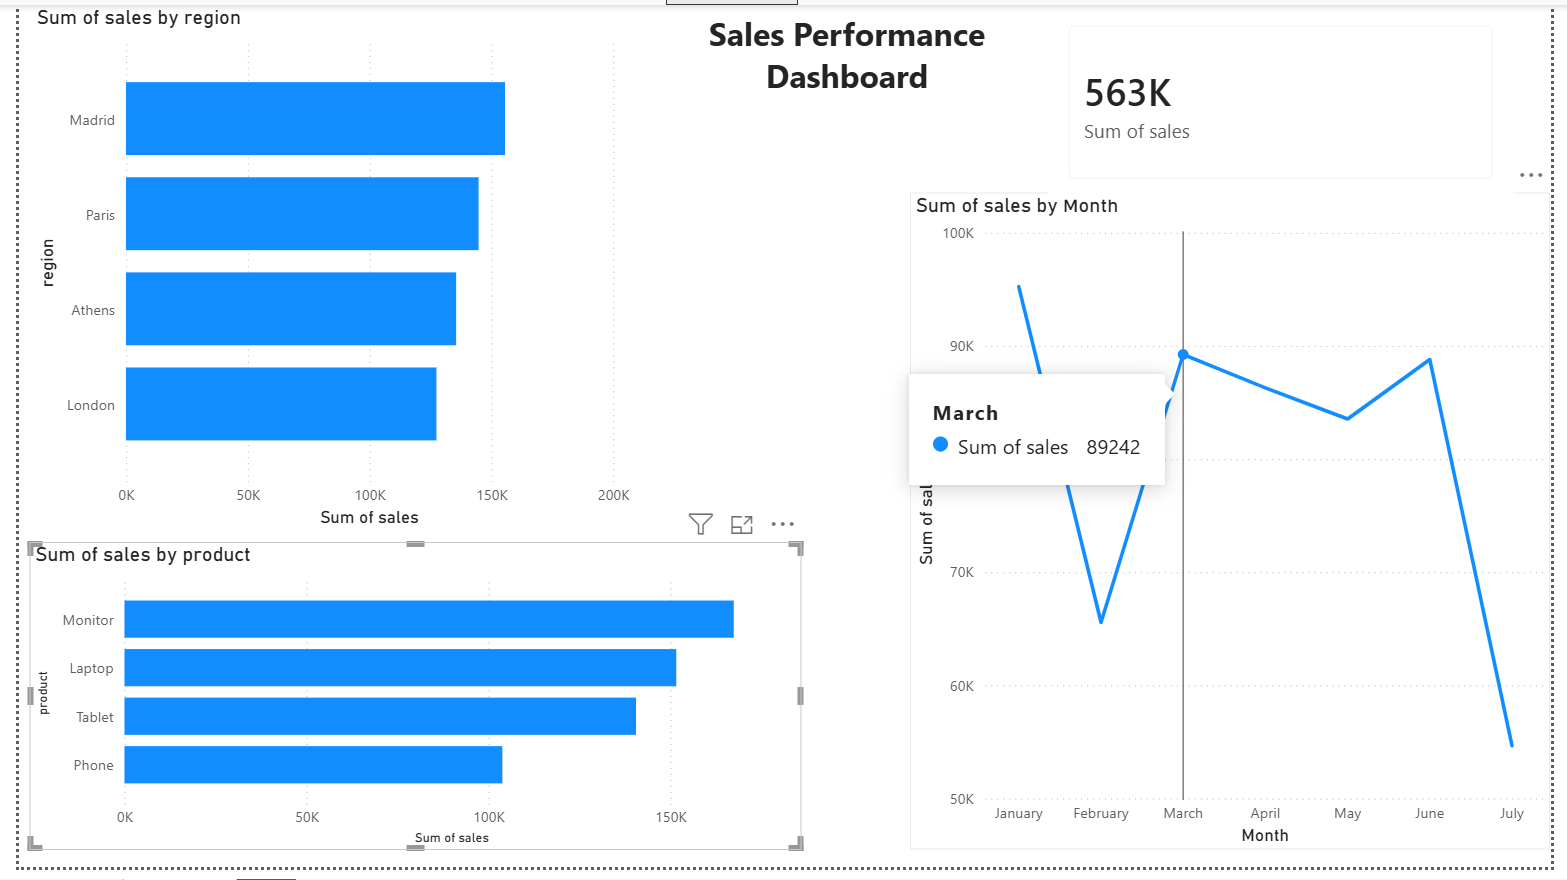

What the dashboard file says about the page in this screenshot:
{"tool":"powerbi","page":{"name":"Page 1","canvas":[1280,720],"ordinal":0},"visuals":[{"type":"barChart","fields":{"Category":["sales_data.region"],"Y":["Sum(sales_data.sales)"]},"box":[9.4,0,506.5,478.1],"z":0},{"type":"lineChart","fields":{"Y":["Sum(sales_data.sales)"],"Category":["sales_data.date.Variation.Date Hierarchy.Month"]},"box":[786.1,338.3,493.2,366.6],"z":1},{"type":"barChart","fields":{"Category":["sales_data.product"],"Y":["Sum(sales_data.sales)"]},"box":[9,478,506,227],"z":2},{"type":"cardVisual","fields":{"Data":["Sum(sales_data.sales)"]},"box":[525,0,506,338],"z":3},{"type":"textbox","box":[561.3,0,260.8,90.7],"z":4}]}

Visuals, with their boxes in screenshot pixels (x1, y1, x2, y2), scaled from the page's 1280x720 canvas onto the 1567x880 screenshot:
barChart - sales_data.region x Sum(sales_data.sales): x1=12 y1=0 x2=632 y2=584
lineChart - Sum(sales_data.sales) x sales_data.date.Variation.Date Hierarchy.Month: x1=962 y1=413 x2=1566 y2=862
barChart - sales_data.product x Sum(sales_data.sales): x1=11 y1=584 x2=630 y2=862
cardVisual - Sum(sales_data.sales): x1=643 y1=0 x2=1262 y2=413
textbox: x1=687 y1=0 x2=1006 y2=111
